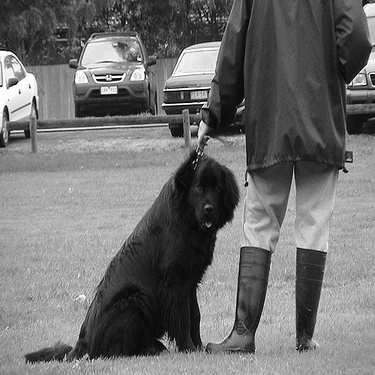dog: (19, 127, 244, 370)
